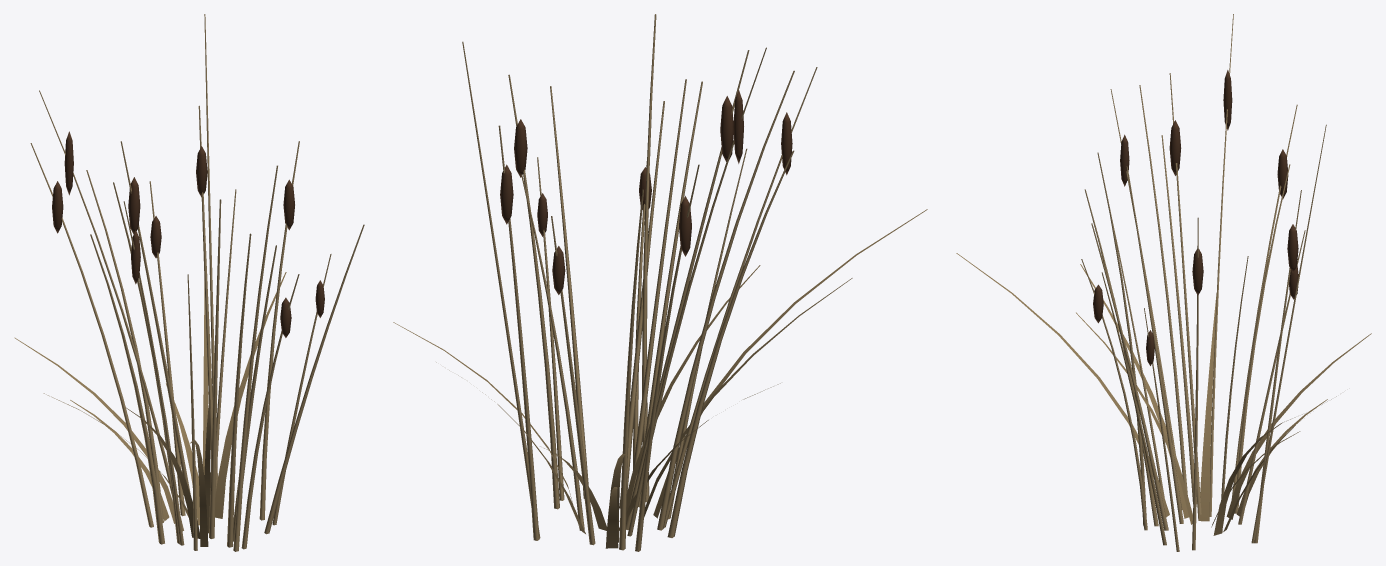
Rendered from reed_clump_3.glb.
3 renders of one model, left to right at view 1: azimuth 30°, elevation 25°; view 2: azimuth 150°, elevation 25°; view 3: azimuth 270°, elevation 25°, orthographic. The views are drawn at different scales.
Parts seen in each view (by area): view 1: ReedClump_Stalks_0, ReedClump_Stalks_2, ReedClump_Stalks_1, ReedClump_Blades_1, ReedClump_Blades_2, ReedClump_Blades_0, ReedClump_Heads_0, ReedClump_Heads_2, ReedClump_Heads_1; view 2: ReedClump_Stalks_0, ReedClump_Stalks_2, ReedClump_Stalks_1, ReedClump_Blades_2, ReedClump_Heads_2, ReedClump_Heads_0, ReedClump_Heads_1, ReedClump_Blades_1, ReedClump_Blades_0; view 3: ReedClump_Stalks_0, ReedClump_Stalks_2, ReedClump_Stalks_1, ReedClump_Blades_1, ReedClump_Blades_2, ReedClump_Blades_0, ReedClump_Heads_0, ReedClump_Heads_2, ReedClump_Heads_1.
Boxes of the visible parts, box(x1,y1,x2,y2) form: ReedClump_Stalks_0: box(39, 90, 299, 551); ReedClump_Stalks_2: box(90, 105, 364, 547); ReedClump_Stalks_1: box(30, 14, 331, 550); ReedClump_Blades_1: box(43, 272, 286, 533); ReedClump_Blades_2: box(125, 383, 208, 546); ReedClump_Blades_0: box(14, 281, 208, 523); ReedClump_Heads_0: box(64, 131, 291, 337); ReedClump_Heads_2: box(150, 146, 294, 258); ReedClump_Heads_1: box(52, 181, 324, 317); ReedClump_Stalks_0: box(619, 14, 794, 536); ReedClump_Stalks_2: box(498, 74, 794, 545); ReedClump_Stalks_1: box(462, 41, 817, 551); ReedClump_Blades_2: box(540, 209, 927, 530); ReedClump_Heads_2: box(500, 119, 565, 294); ReedClump_Heads_0: box(639, 90, 743, 209); ReedClump_Heads_1: box(537, 112, 792, 256); ReedClump_Blades_1: box(393, 265, 780, 530); ReedClump_Blades_0: box(436, 362, 627, 548); ReedClump_Stalks_0: box(1081, 14, 1233, 530); ReedClump_Stalks_2: box(1084, 135, 1305, 550); ReedClump_Stalks_1: box(1110, 89, 1326, 551); ReedClump_Blades_1: box(1076, 293, 1302, 535); ReedClump_Blades_2: box(956, 253, 1300, 527); ReedClump_Blades_0: box(1223, 333, 1371, 531); ReedClump_Heads_0: box(1093, 70, 1232, 323); ReedClump_Heads_2: box(1192, 224, 1298, 299); ReedClump_Heads_1: box(1120, 134, 1288, 365).
Size of what is drawn, in the model's own units: 1.23 by 1.87 by 1.59.
